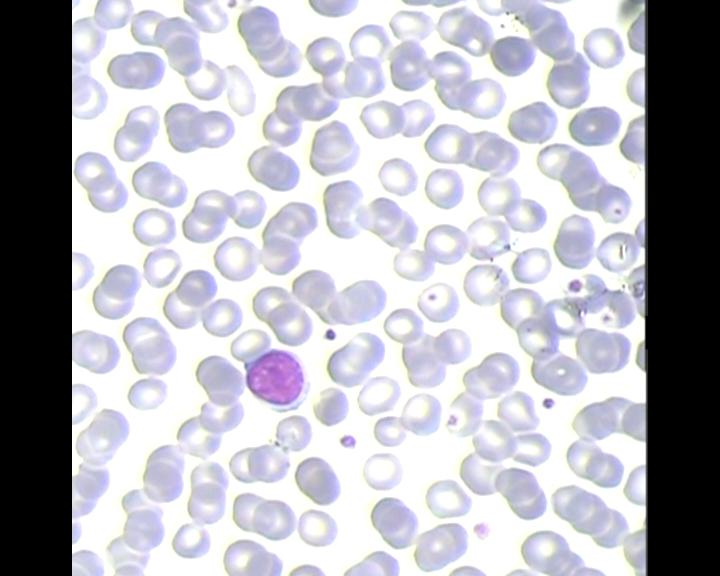lymp: (239, 345, 315, 415)
